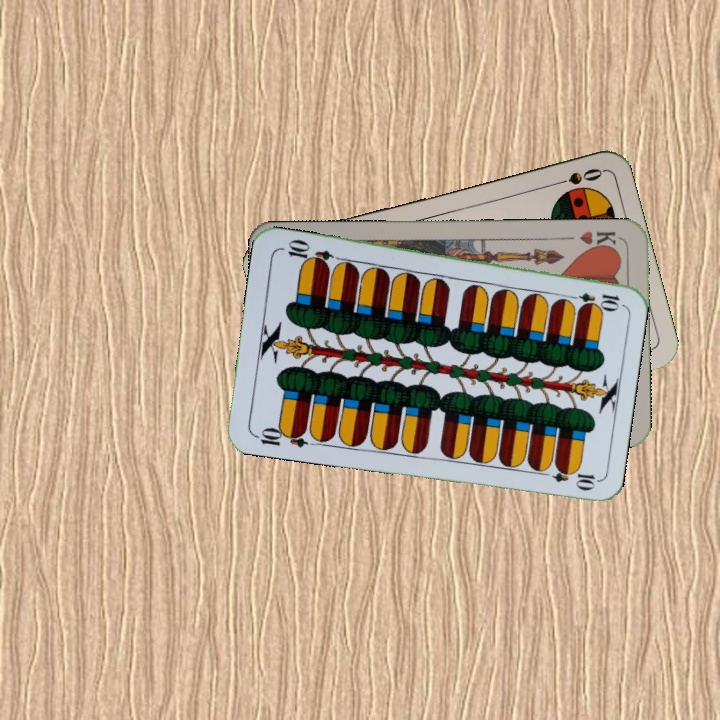E10: (250, 422, 309, 450), (563, 288, 622, 310)
HK: (576, 227, 623, 253)
SO: (547, 164, 605, 189)
